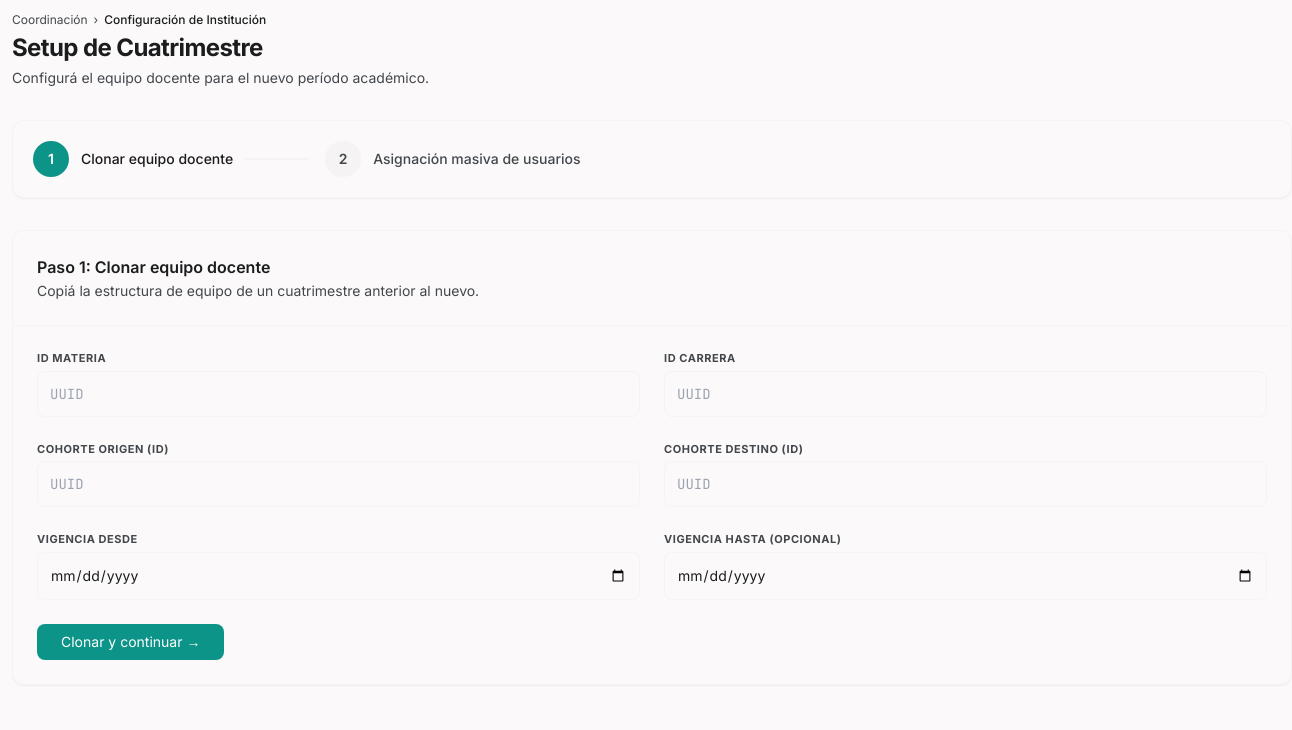
it: SetupCuatrimestrePage › avanza a paso 2 después de clonar exitosamente
The image size is (1292, 730).
Type "mat-1" into the field labelled "ID Materia" at (338, 394), box [37,370,640,416]
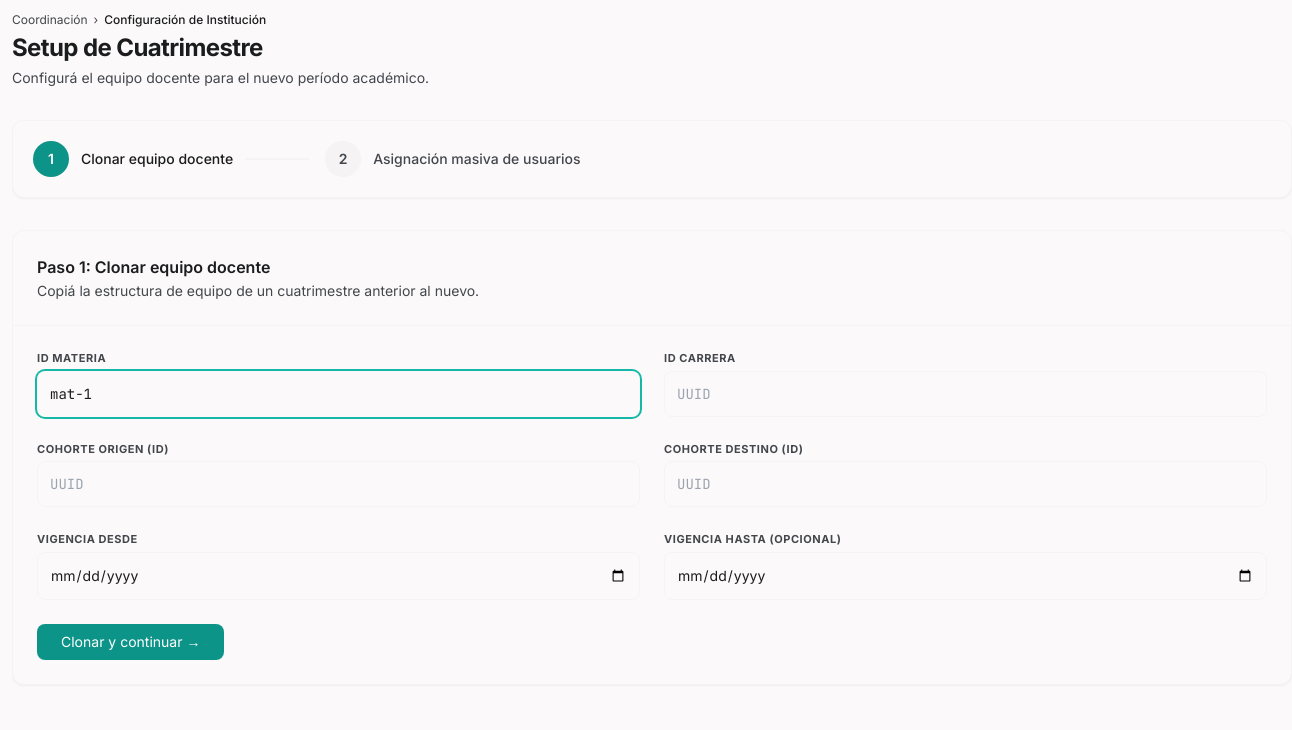
Type "carr-1" into the field labelled "ID Carrera" at (966, 394), box [664,370,1267,416]
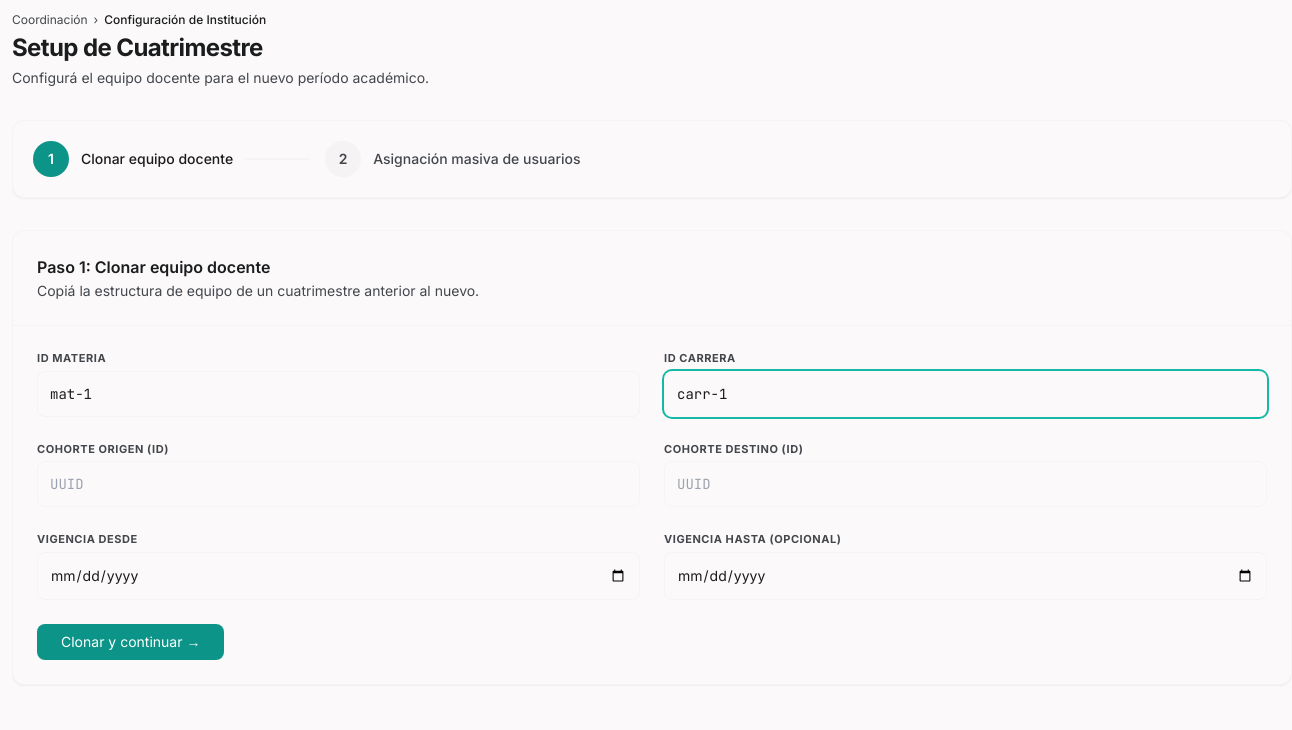
Type "coh-1" into the field labelled "Cohorte origen (ID)" at (338, 484), box [37,461,640,507]
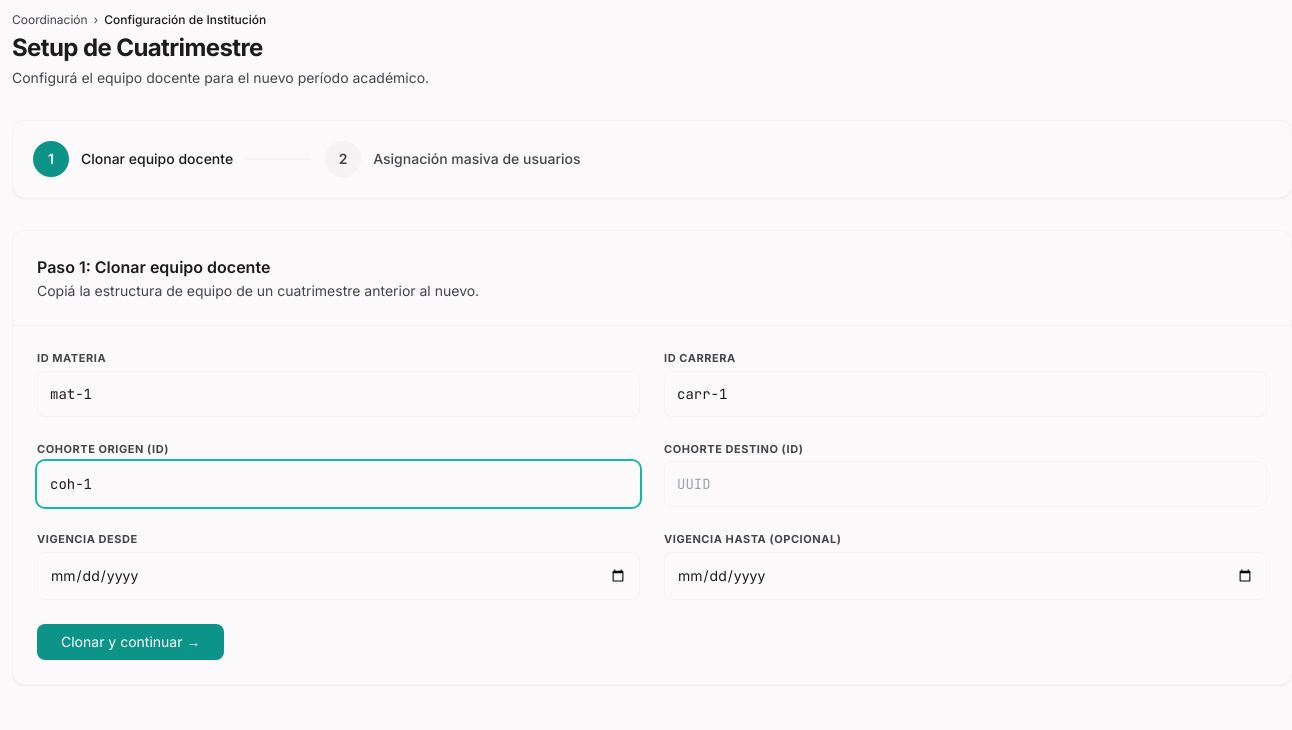
Type "coh-2" into the field labelled "Cohorte destino (ID)" at (966, 484), box [664,461,1267,507]
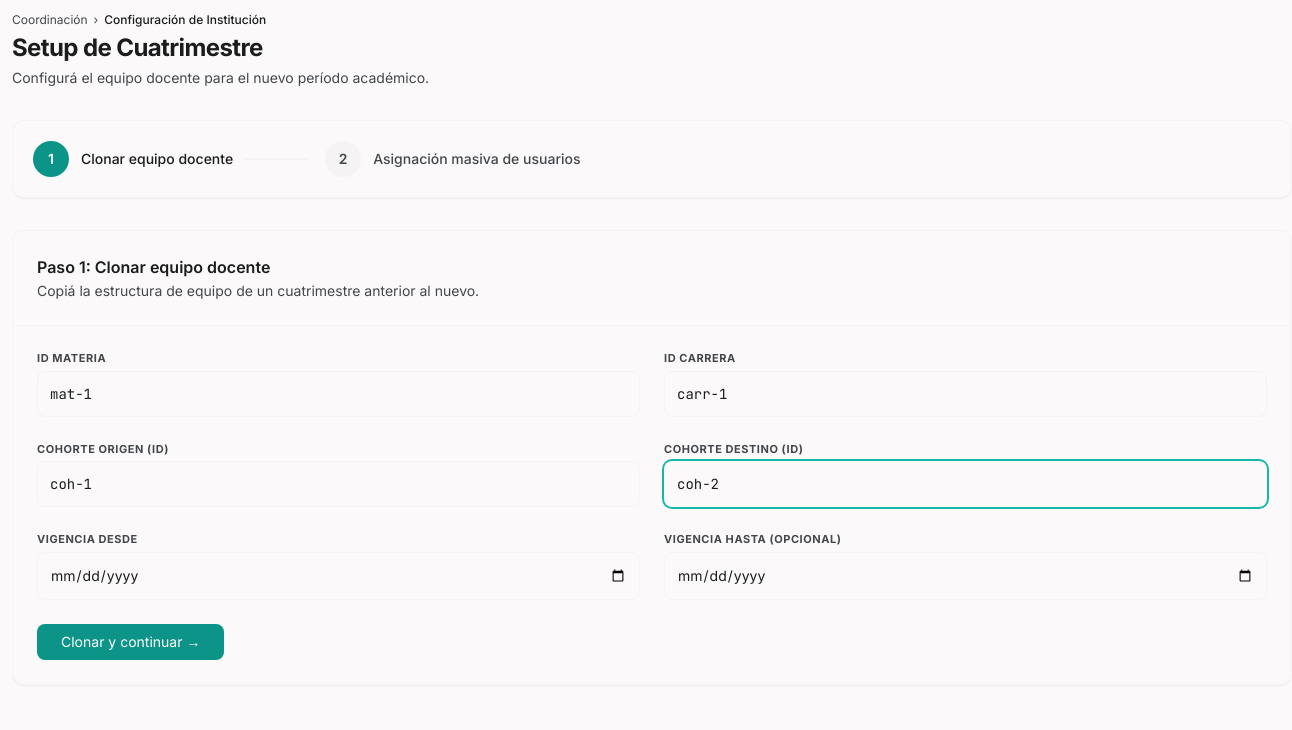
Type "2024-08-01" into the date field labelled "Vigencia desde" at (338, 576), box [37,552,640,600]
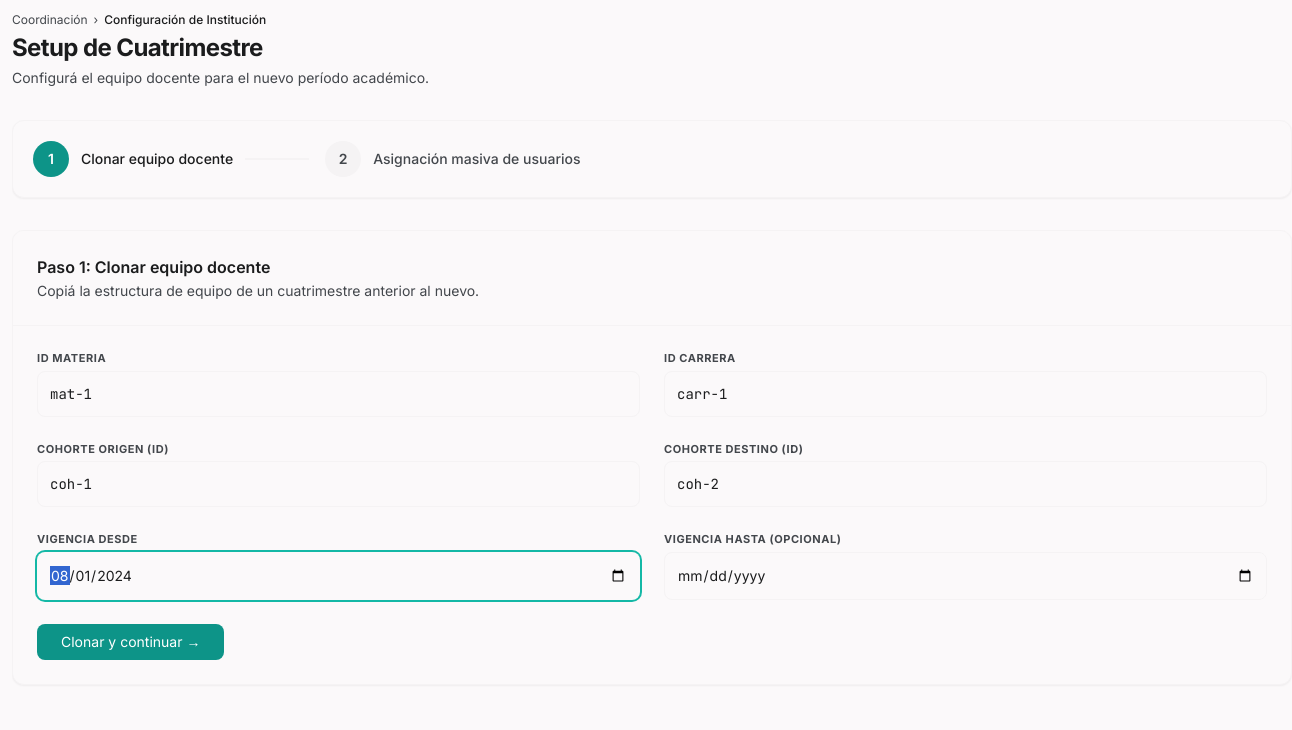
Click the button "Clonar y continuar →" at (131, 642), box [37,624,224,660]
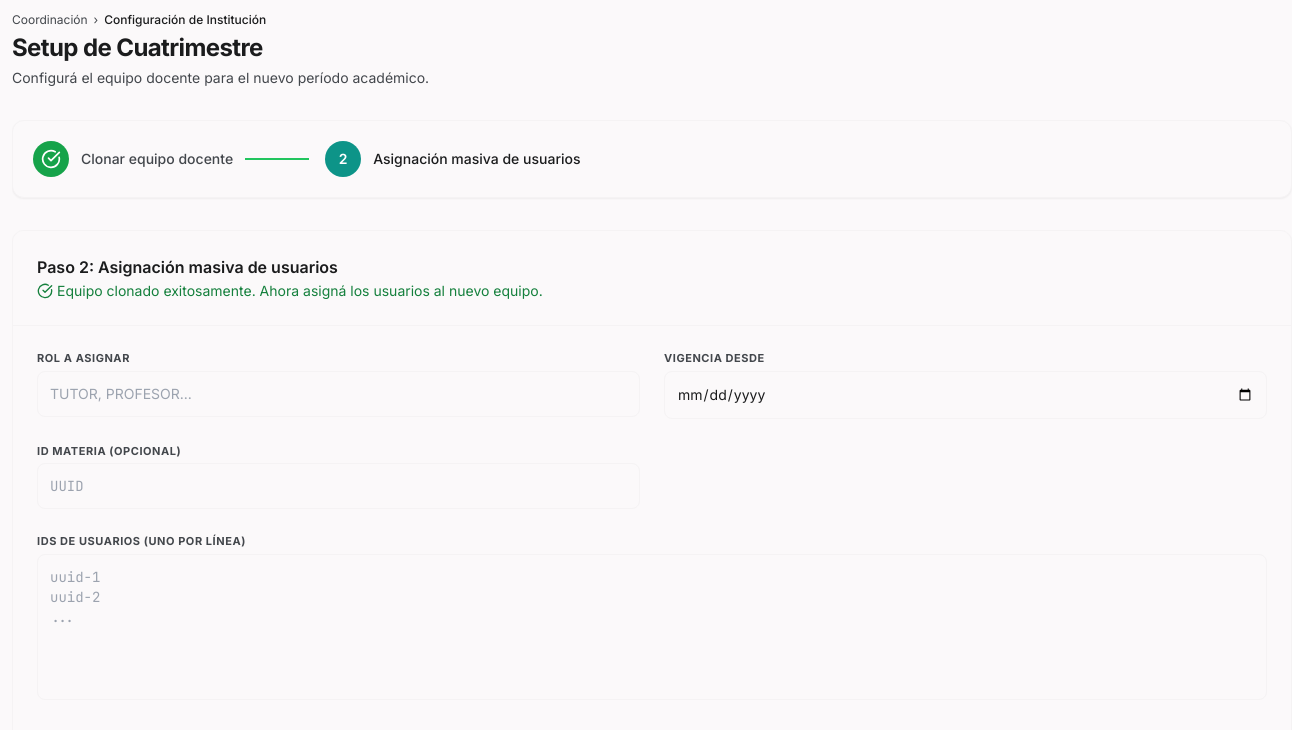
Expected: the heading "Paso 2: Asignación masiva de usuarios" is shown, [37,257,338,277]
Expected: the text "Equipo clonado exitosamente" is shown, [57,282,543,299]
